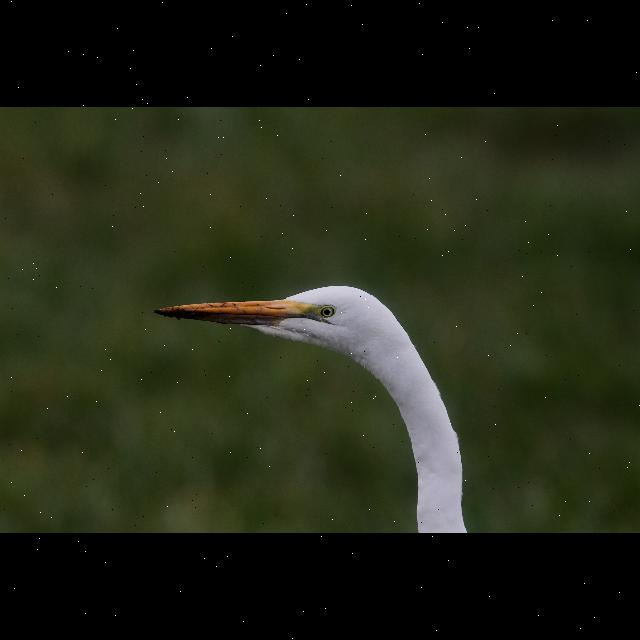egret: (144, 282, 480, 534)
